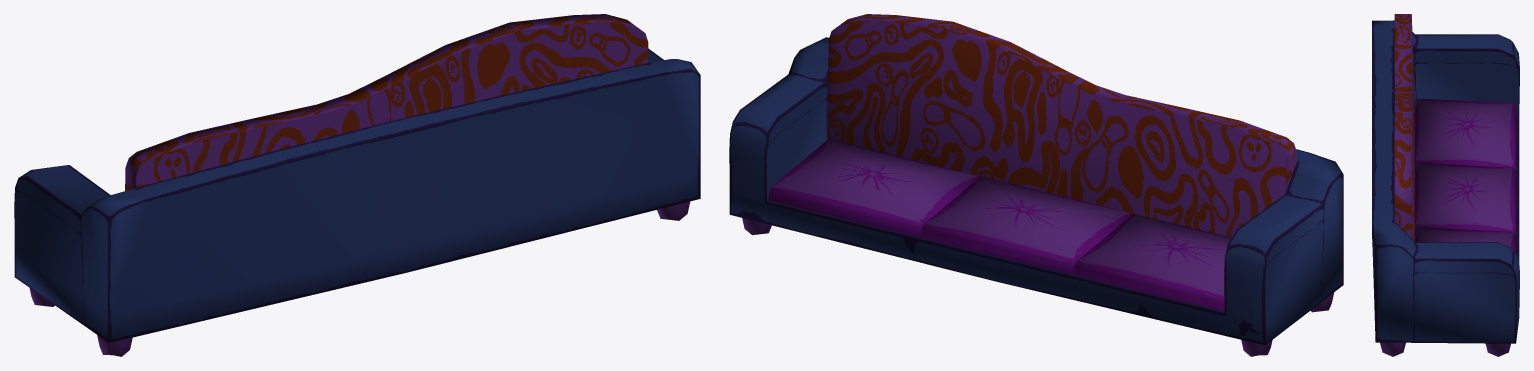
The model's file is alley_bench.fbx.
3 views of the same model, side by side, from view 1: azimuth 30°, elevation 25°; view 2: azimuth 150°, elevation 25°; view 3: azimuth 270°, elevation 25° (orthographic). The views are drawn at different scales.
Parts seen in each view (by area): view 1: alley_bench; view 2: alley_bench; view 3: alley_bench.
Boxes of the visible parts, box(x1,y1,x2,y2) form: alley_bench: box(14, 14, 700, 356); alley_bench: box(729, 14, 1343, 356); alley_bench: box(1372, 14, 1519, 356).
Bounding box in the file's own units: 3.53 × 0.9793 × 1.27.
Materials: 1 (1 with a texture image).
